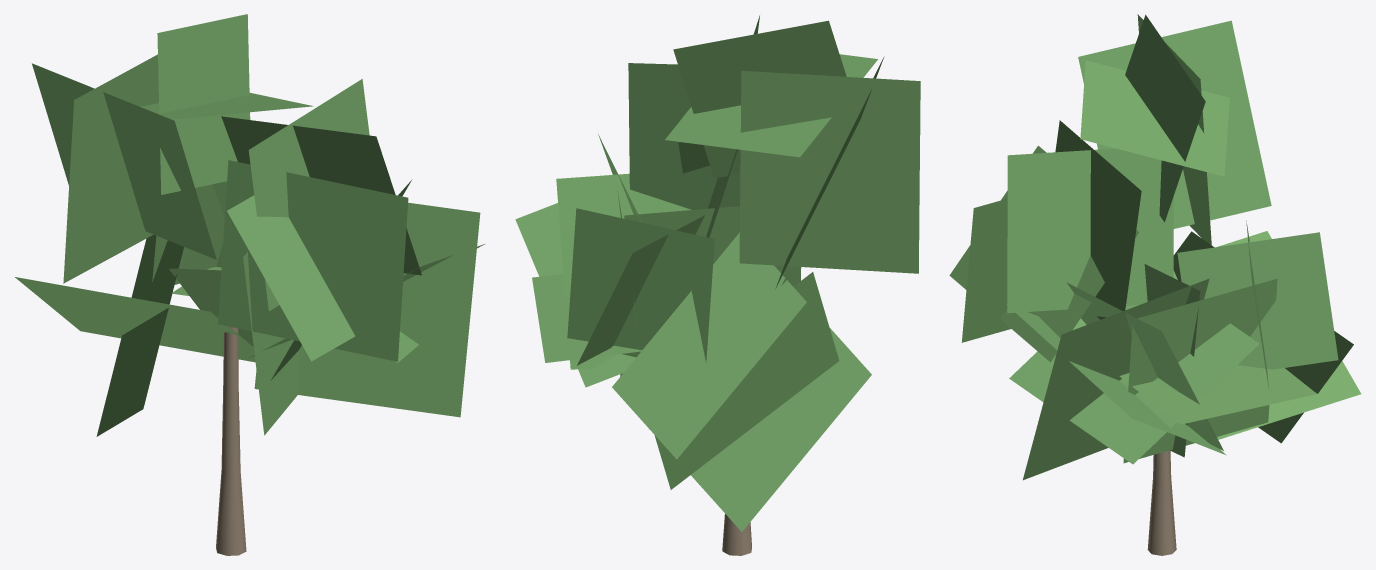
Rendered from tree_street_small_lod1.glb.
3 views of the same model, side by side, from view 1: azimuth 30°, elevation 25°; view 2: azimuth 150°, elevation 25°; view 3: azimuth 270°, elevation 25° (orthographic). The views are drawn at different scales.
Parts seen in each view (by area): view 1: tree_street_small_lod1; view 2: tree_street_small_lod1; view 3: tree_street_small_lod1.
Boxes of the visible parts, <box> form: tree_street_small_lod1: <box>15,14,484,555</box>; tree_street_small_lod1: <box>515,15,920,555</box>; tree_street_small_lod1: <box>949,14,1361,555</box>.
Size of the model in its own units: 4.19 by 5.25 by 3.94.
